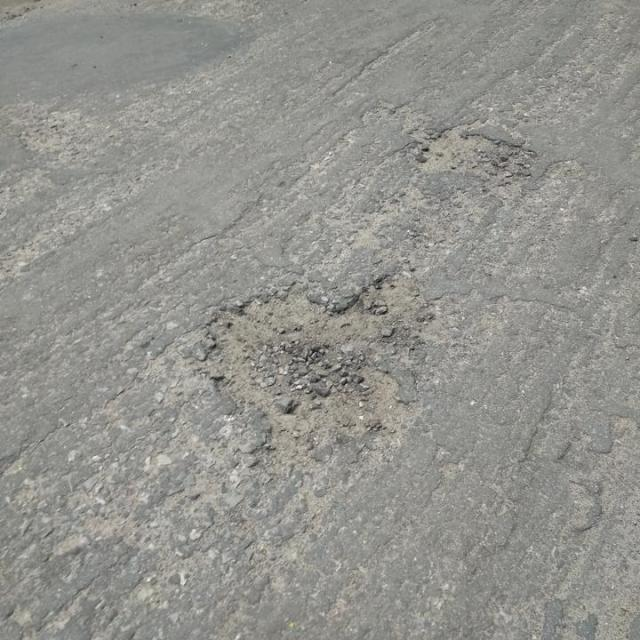pothole: (204, 267, 428, 465), (413, 119, 543, 184)
